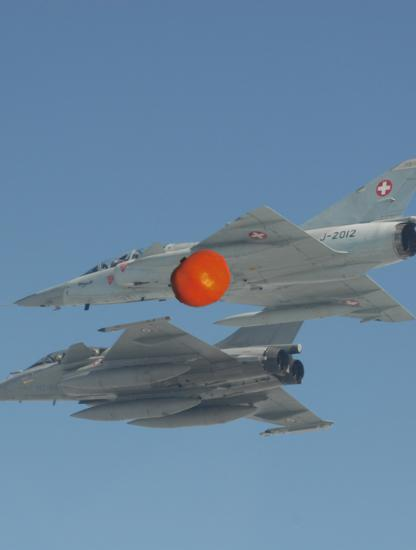Clementine: (170, 248, 233, 311)
